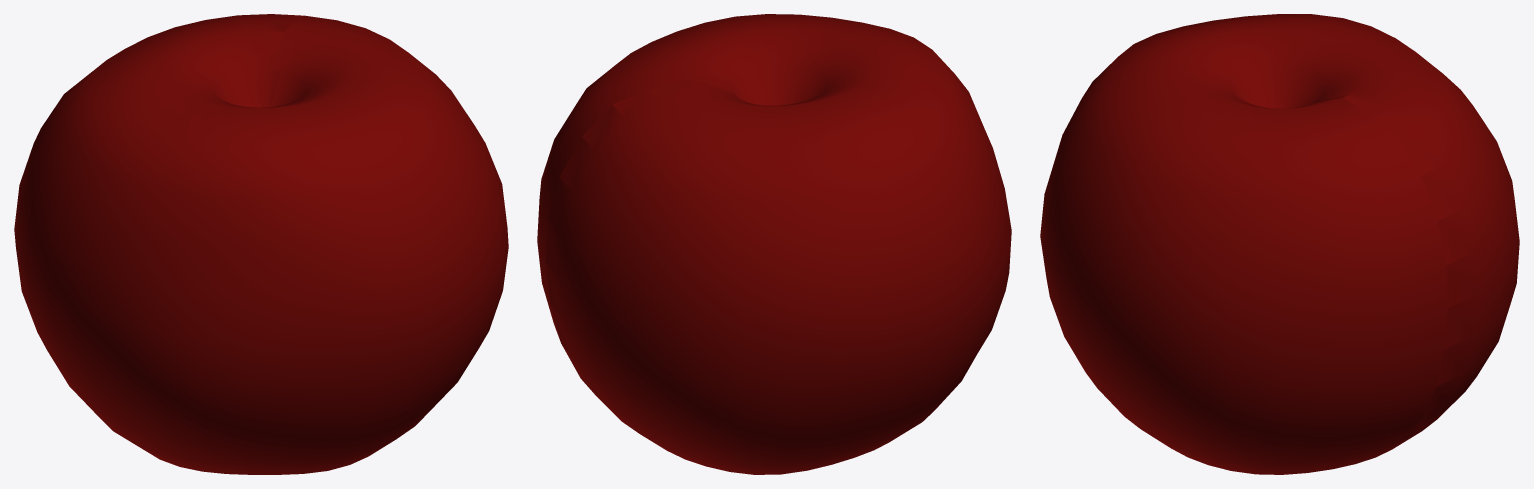
File: apple.FBX
The picture shows the model from 3 angles, left to right: view 1: azimuth 30°, elevation 25°; view 2: azimuth 150°, elevation 25°; view 3: azimuth 270°, elevation 25°; orthographic projection. The views are drawn at different scales.
Visible parts, largest first — view 1: Sphere07; view 2: Sphere07; view 3: Sphere07.
Part boxes in pixels (x1,y1,x2,y2): Sphere07: (14, 14, 508, 474); Sphere07: (537, 14, 1011, 474); Sphere07: (1040, 14, 1519, 474).
Bounding box in the file's own units: 105 × 89.86 × 105.
